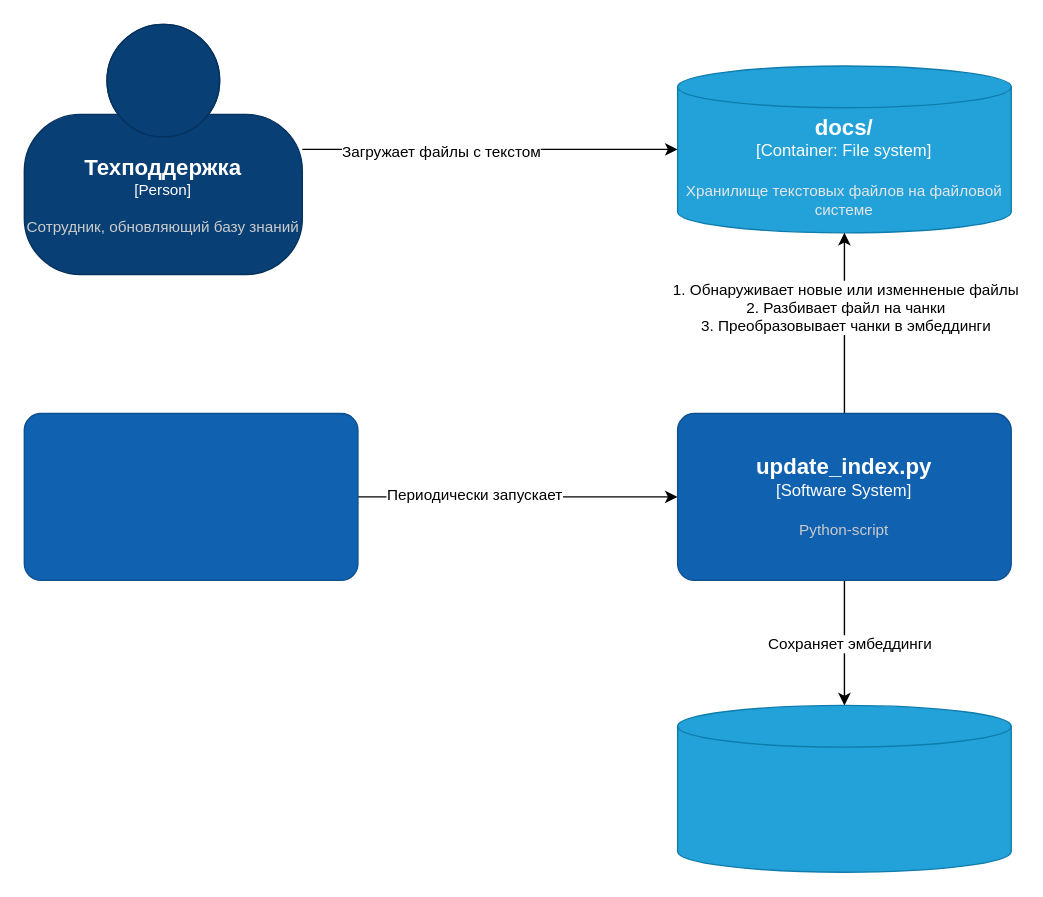
Some shapes in this 1043 by 897 pixel diagram are drawn without their labels. The shapes that lost their labels are listed below. From the top down, each one's box as (x1, y1, x2, y2) in pixels, then its label:
(23, 412, 358, 580): cron [Software System] Scheduler
(676, 704, 1011, 872): vector_store/ [Container: e.g. Oracle Database 12] БД эмбеддингов
